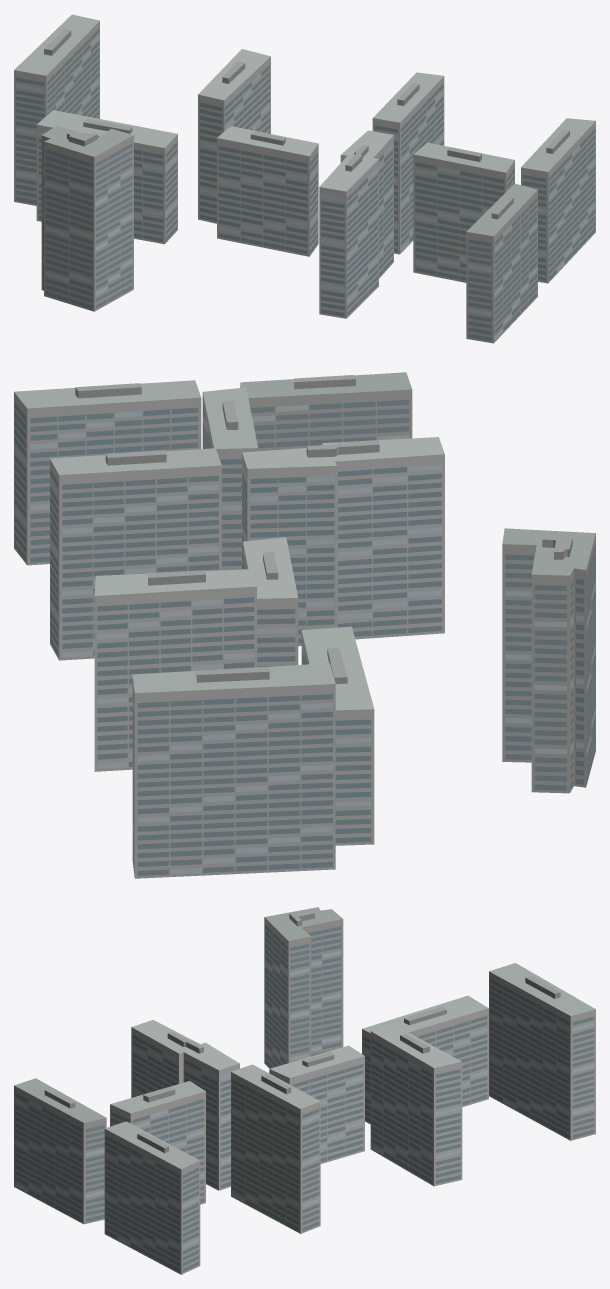
File: apt-a13614001.glb
3 views of the same model, one above another, from view 1: azimuth 30°, elevation 25°; view 2: azimuth 150°, elevation 25°; view 3: azimuth 270°, elevation 25° (orthographic). The views are drawn at different scales.
Parts seen in each view (by area): view 1: apt-a13614001; view 2: apt-a13614001; view 3: apt-a13614001.
Boxes of the visible parts, x1,y1,x2,y2 form: apt-a13614001: (14,14,595,343); apt-a13614001: (14,372,595,878); apt-a13614001: (14,907,595,1274).
Size of the model in its own units: 219 by 70 by 243.
